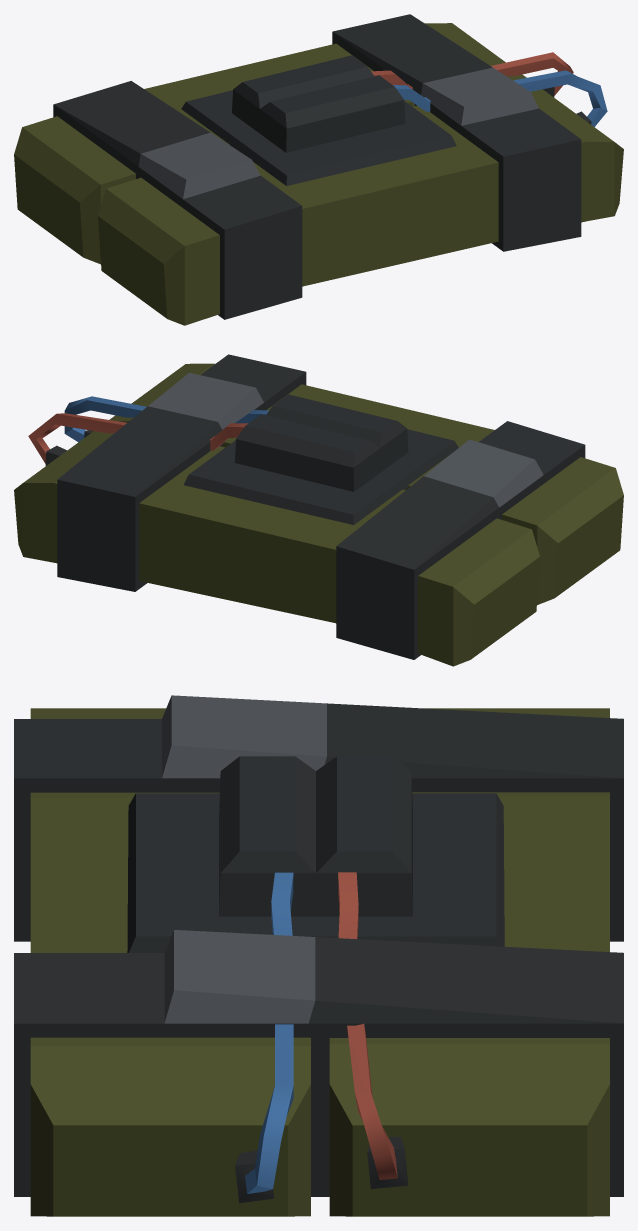
The model's file is SM_Prop_C4_01.glb.
3 renders of one model, top to bottom at view 1: azimuth 30°, elevation 25°; view 2: azimuth 150°, elevation 25°; view 3: azimuth 270°, elevation 25°, orthographic. The views are drawn at different scales.
Visible parts, largest first — view 1: SM_Prop_C4_01; view 2: SM_Prop_C4_01; view 3: SM_Prop_C4_01.
Part boxes in pixels (bbox=[...]): SM_Prop_C4_01: bbox=[14, 14, 623, 325]; SM_Prop_C4_01: bbox=[14, 354, 623, 666]; SM_Prop_C4_01: bbox=[14, 695, 623, 1216].
Bounding box in the file's own units: 0.5099 × 0.1302 × 0.3016.
1 material, 1 textured.
